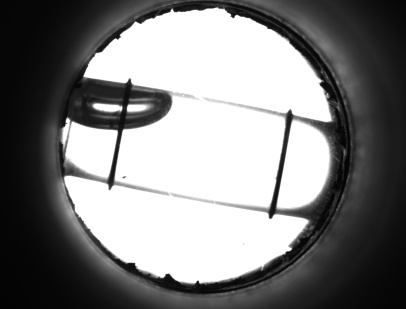line: (266, 132, 293, 201), (107, 137, 125, 173)
